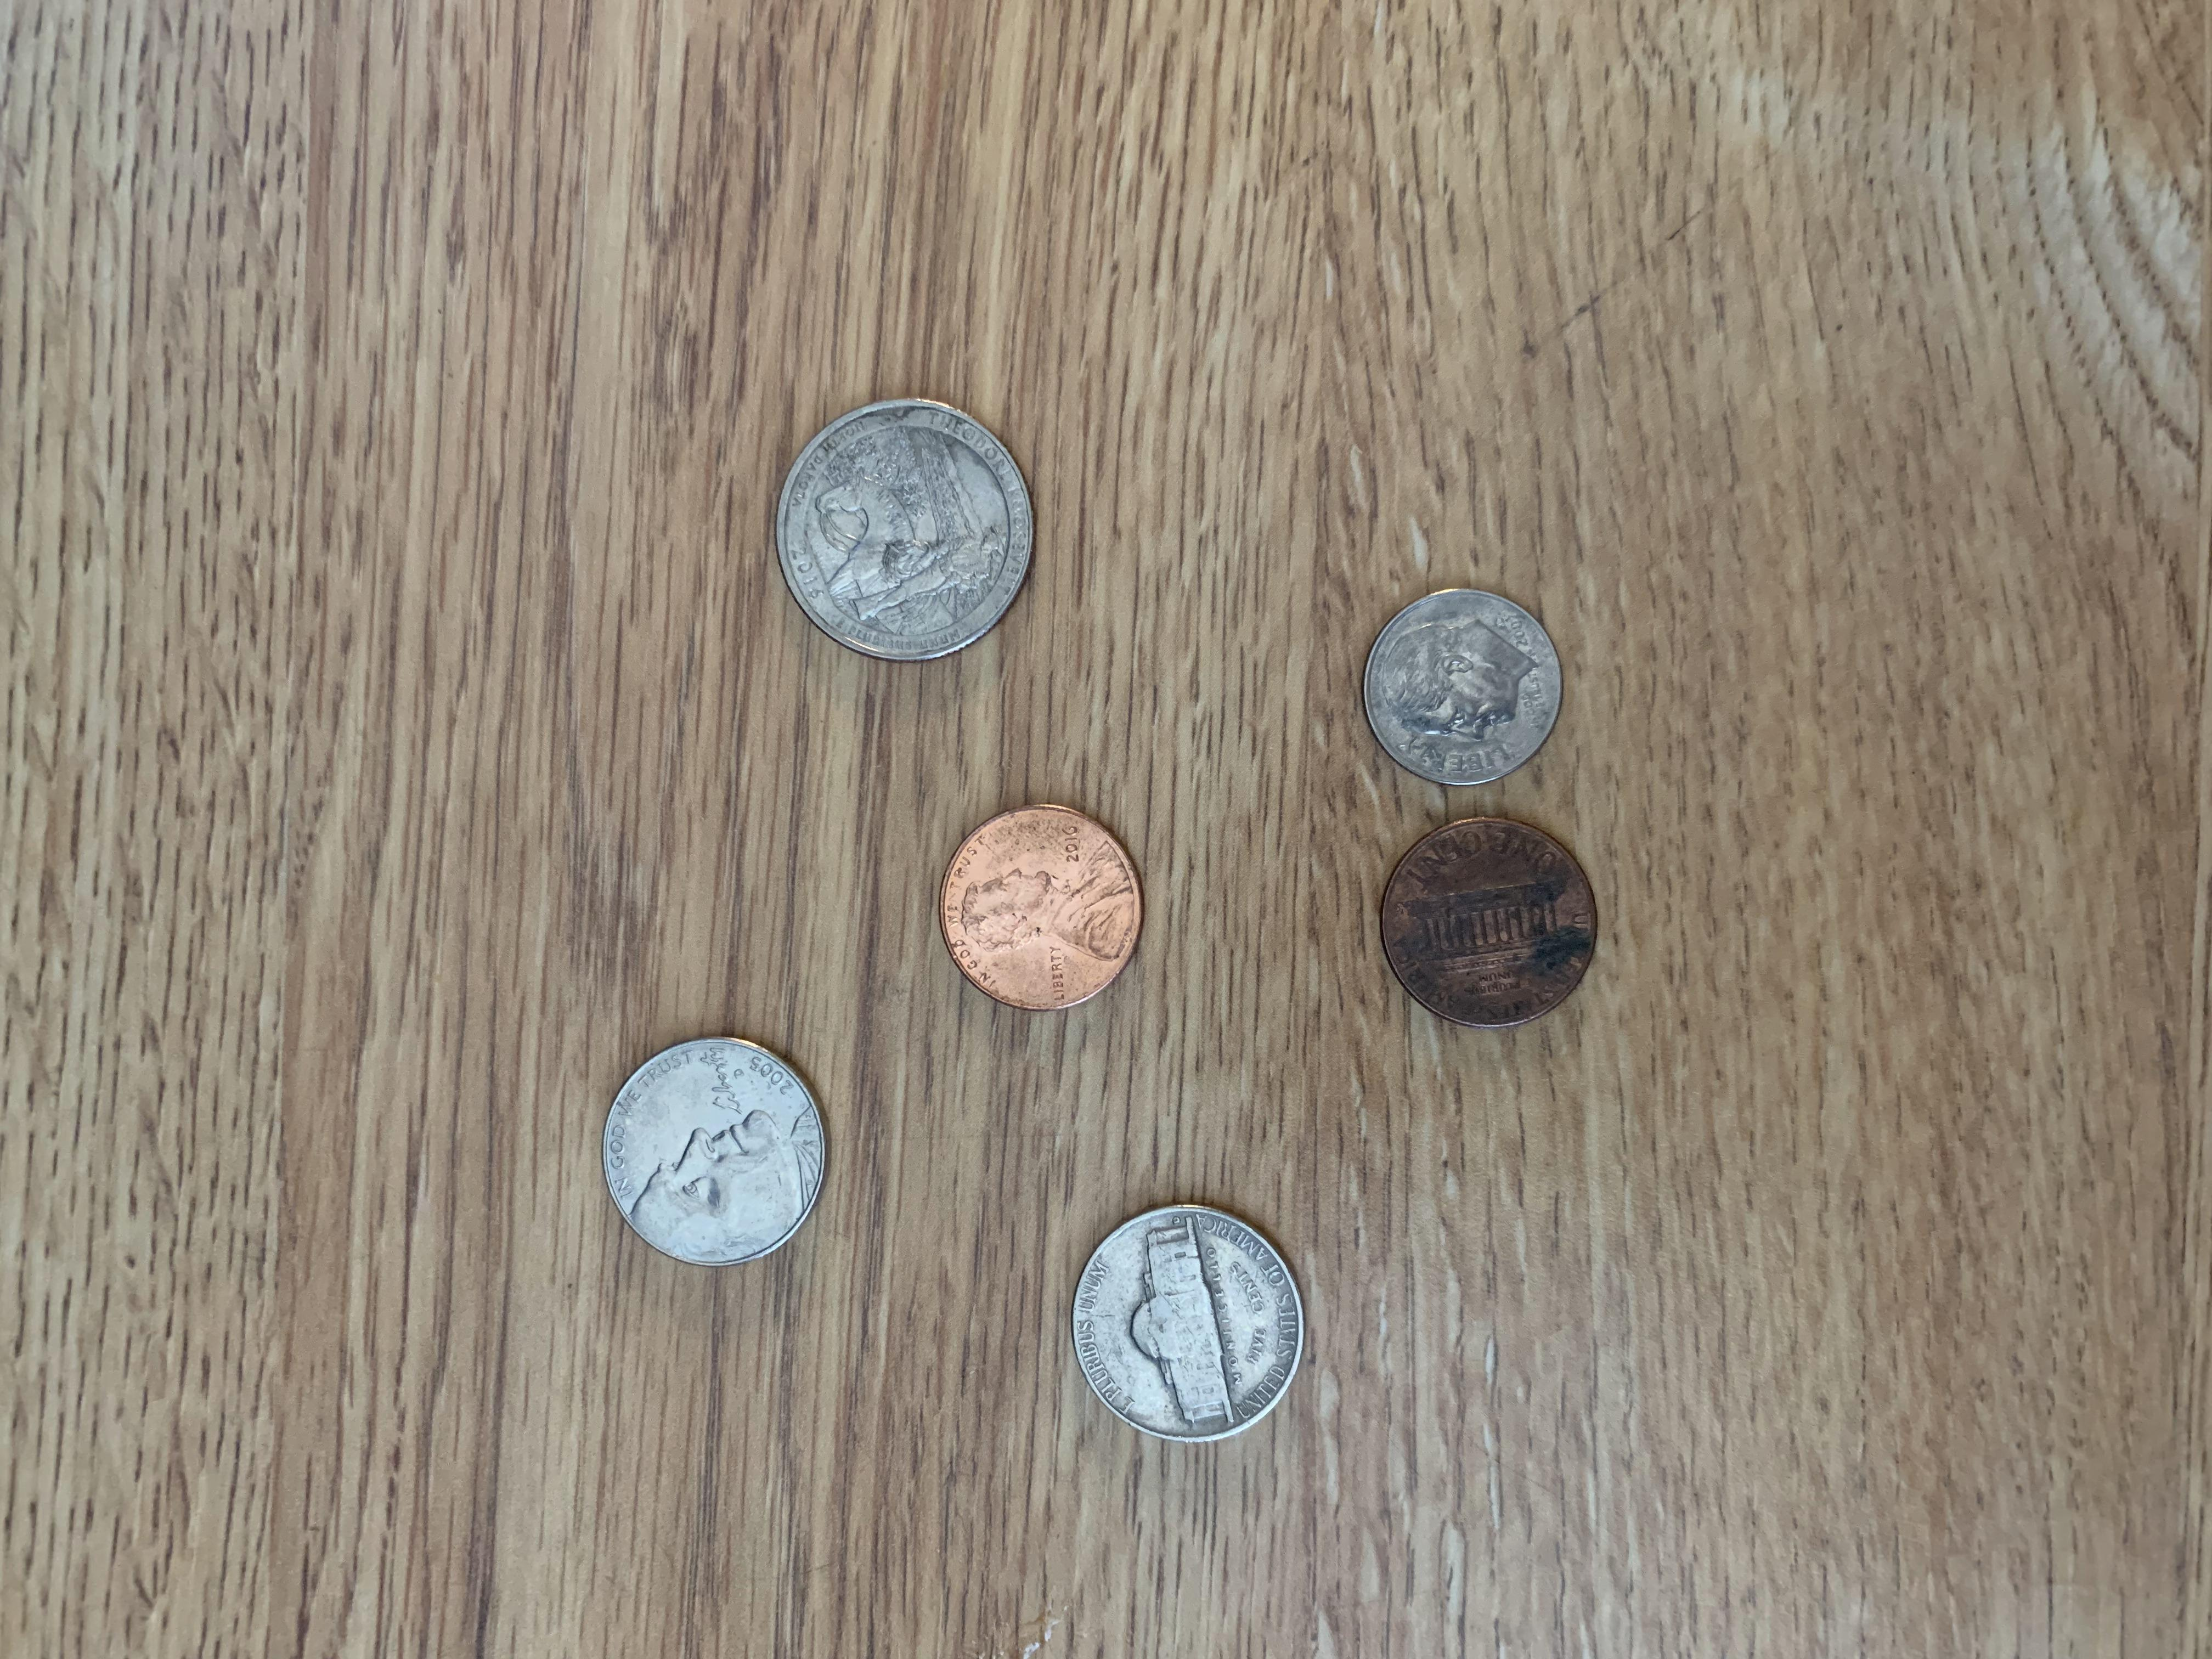Dime: (1357, 584, 1573, 795)
Nickel: (1064, 1199, 1308, 1452), (592, 1030, 833, 1272)
Penny: (1372, 805, 1608, 1035), (930, 800, 1150, 1019)
Quarter: (765, 383, 1045, 669)
